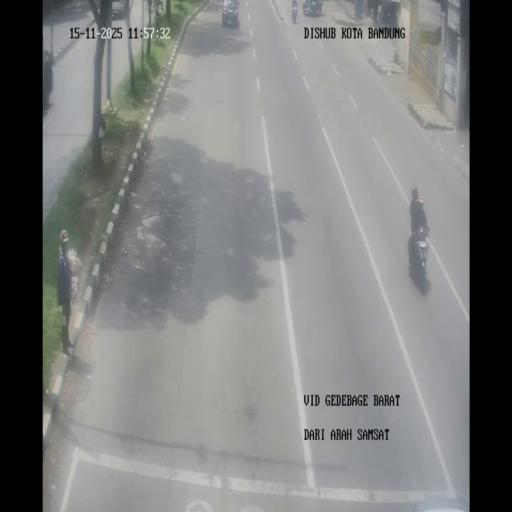car: (221, 0, 240, 27), (302, 0, 323, 17), (111, 0, 127, 20)
motorcycle: (408, 218, 430, 290), (361, 0, 368, 17), (292, 3, 298, 22), (377, 3, 382, 23)
